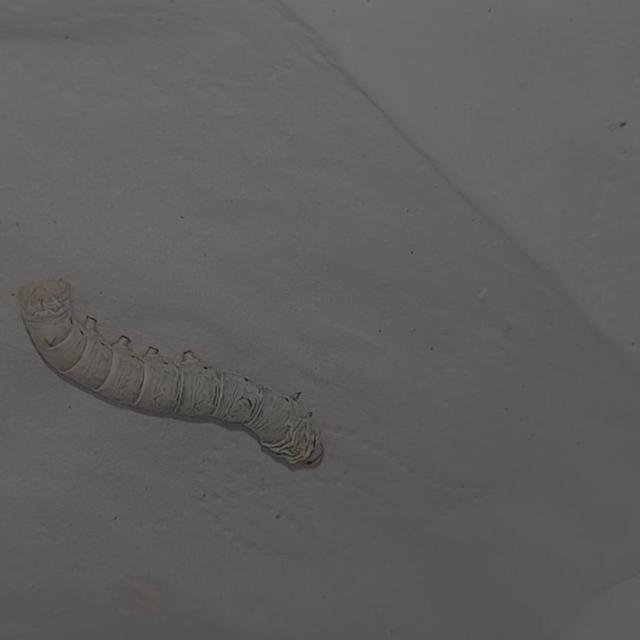Healthy: (8, 257, 341, 503)
